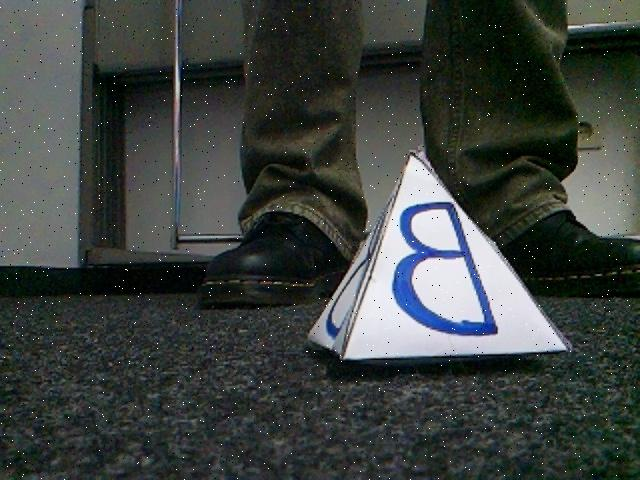B: (302, 151, 556, 363)
